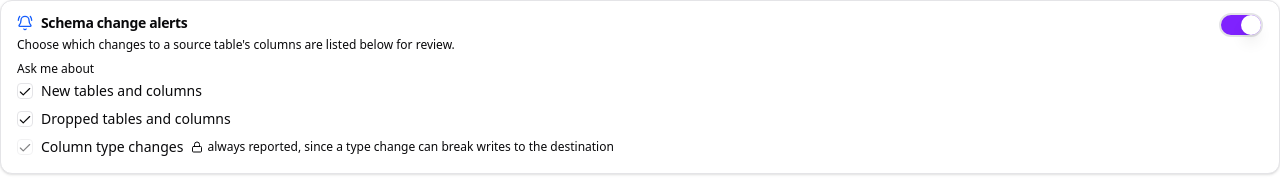
Test: SchemaDriftPolicyCard › sends all three fields on every save
Click the checkbox named "New tables and columns" next to "New tables and columns" at (25, 91), box [17,83,33,99]
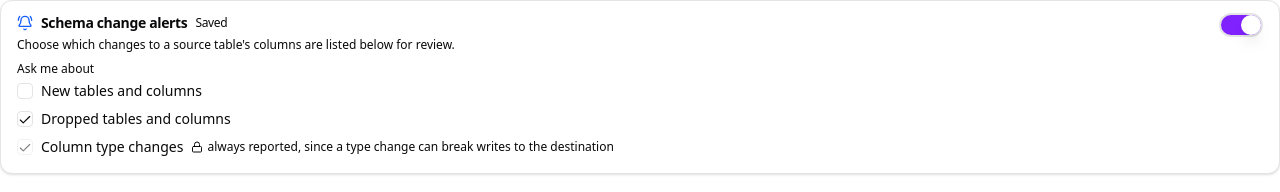
expect the checkbox named "New tables and columns" next to "New tables and columns" is not checked: met, box [17,83,33,99]
expect the text "Saved" is shown: met, box [196,15,227,31]
